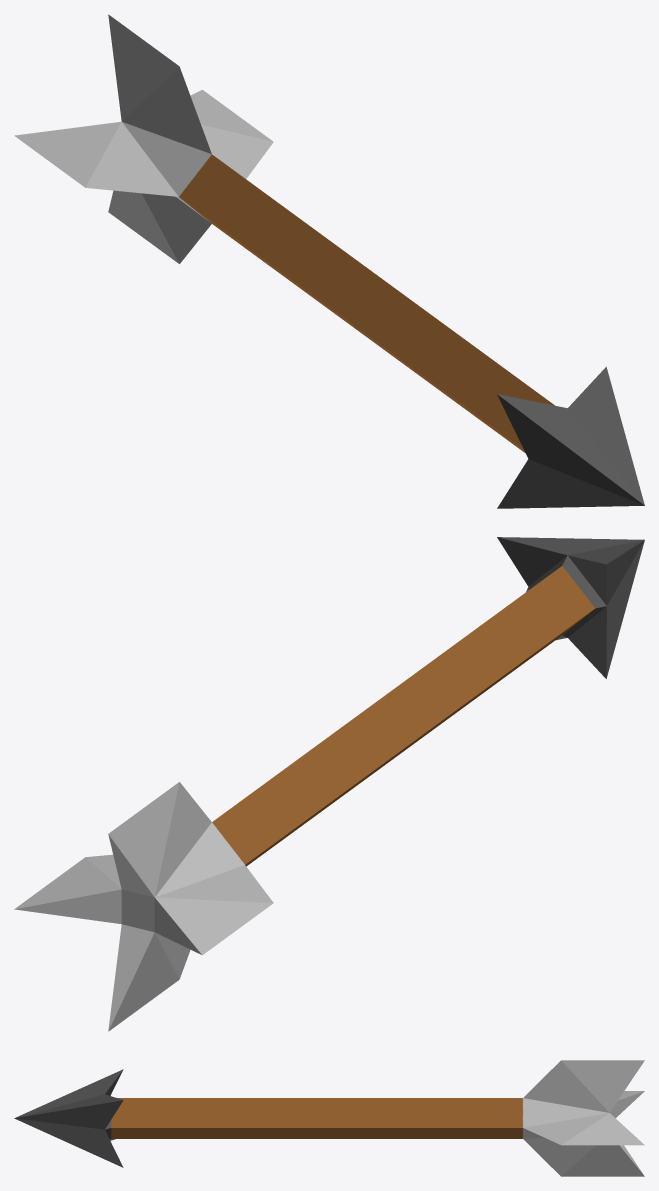
The model's file is 3D_darts.fbx.
3 views of the same model, one above another, from view 1: azimuth 30°, elevation 25°; view 2: azimuth 150°, elevation 25°; view 3: azimuth 270°, elevation 25° (orthographic). The views are drawn at different scales.
Visible parts, largest first — view 1: SM_dart_01; view 2: SM_dart_01; view 3: SM_dart_01.
Part boxes in pixels (bbox=[...]): SM_dart_01: bbox=[14, 14, 644, 508]; SM_dart_01: bbox=[14, 537, 644, 1031]; SM_dart_01: bbox=[14, 1060, 644, 1176].
Bounding box in the file's own units: 21.88 × 21.96 × 108.
1 material, 1 textured.
